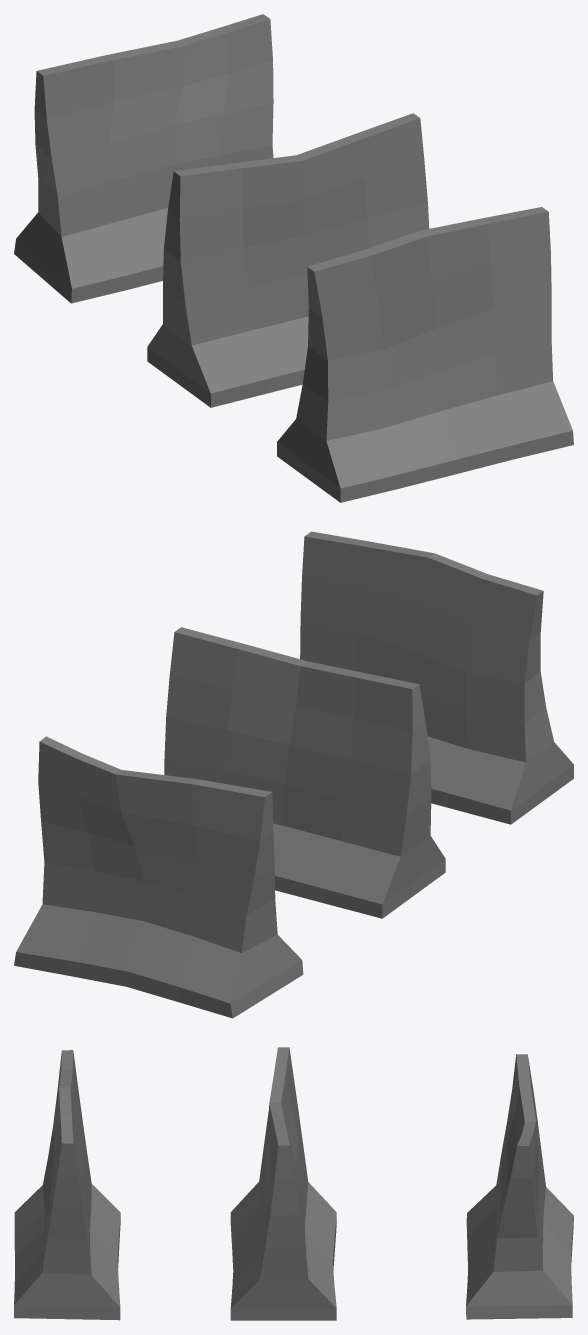
Rendered from pembatas jalan beton.fbx.
3 views of the same model, one above another, from view 1: azimuth 30°, elevation 25°; view 2: azimuth 150°, elevation 25°; view 3: azimuth 270°, elevation 25° (orthographic). The views are drawn at different scales.
Visible parts, largest first — view 1: Cube, Cube.001, Cube.002; view 2: Cube.002, Cube.001, Cube; view 3: Cube.001, Cube, Cube.002.
Part boxes in pixels (bbox=[...]): Cube: bbox=[277, 207, 573, 502]; Cube.001: bbox=[147, 113, 429, 407]; Cube.002: bbox=[14, 14, 273, 303]; Cube.002: bbox=[14, 736, 303, 1018]; Cube.001: bbox=[164, 627, 445, 918]; Cube: bbox=[300, 531, 573, 824]; Cube.001: bbox=[230, 1047, 336, 1320]; Cube: bbox=[14, 1050, 120, 1320]; Cube.002: bbox=[466, 1054, 573, 1319].
Bounding box in the file's own units: 209 × 178 × 491.
